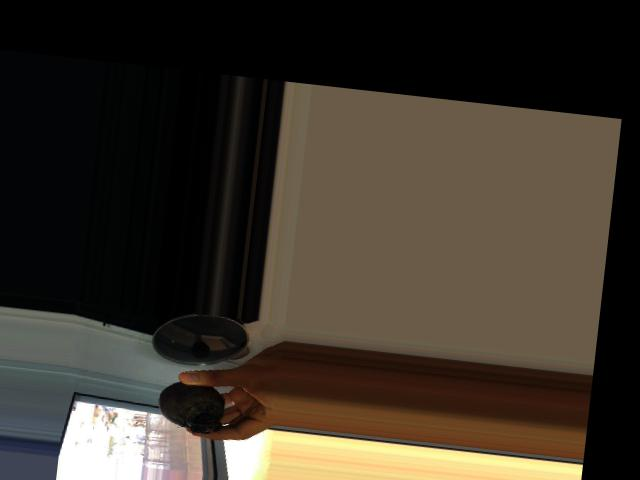beet: (155, 378, 245, 437)
